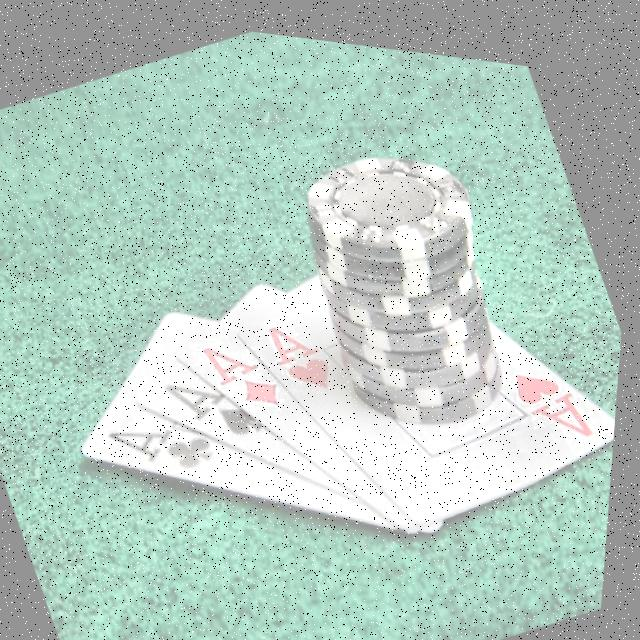Chip: (256, 88, 561, 456)
